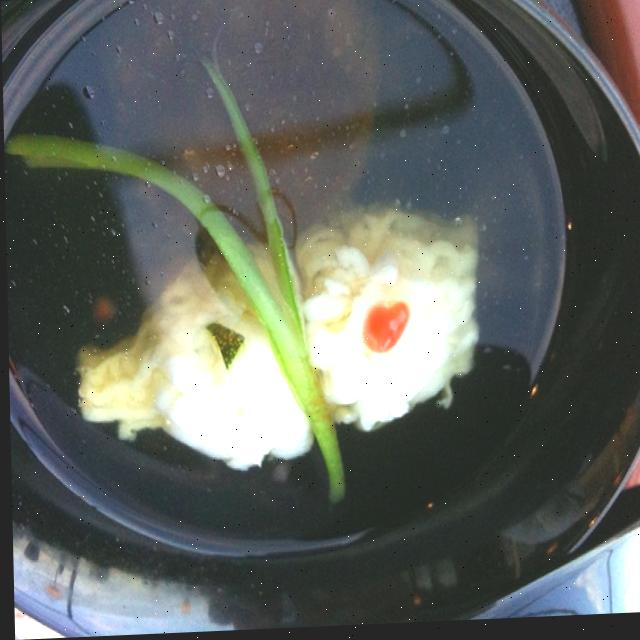汤锅炖物: (2, 0, 612, 600)
